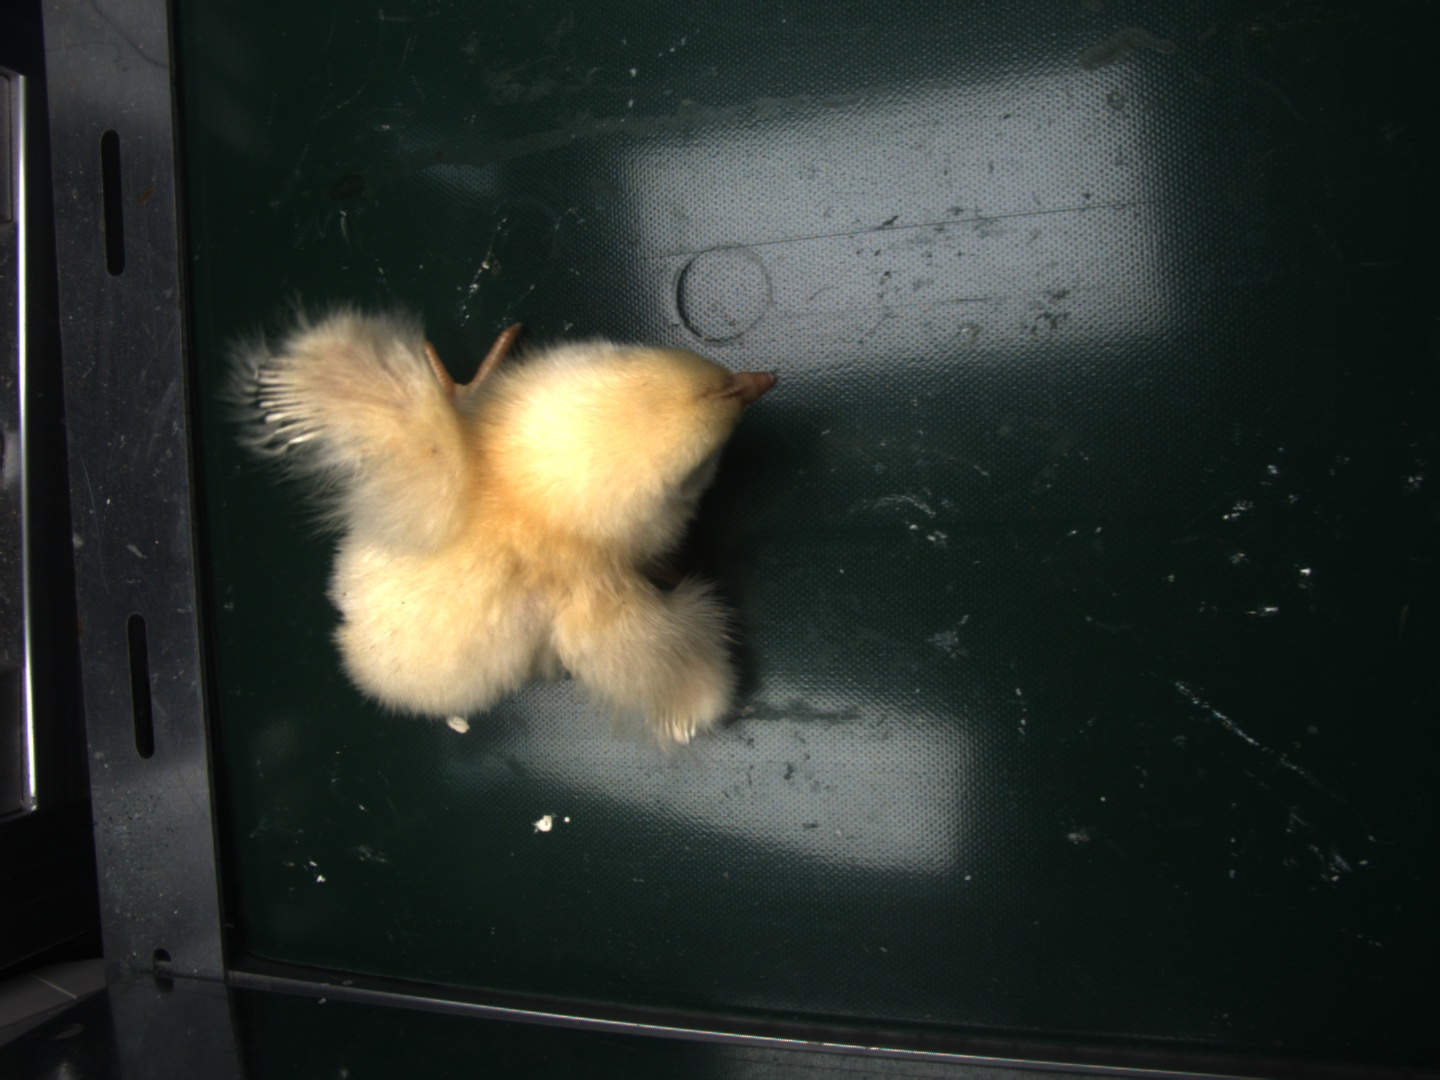male: (261, 357, 325, 452)
